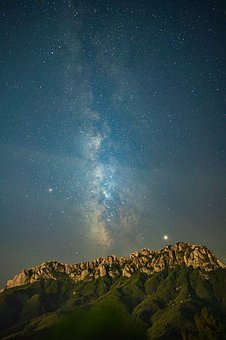mountain: (13, 250, 226, 339)
sky: (1, 1, 224, 248)
